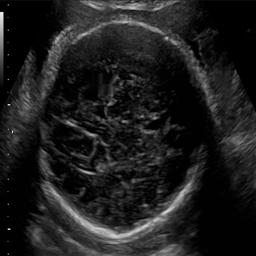normal: (36, 17, 218, 244)
